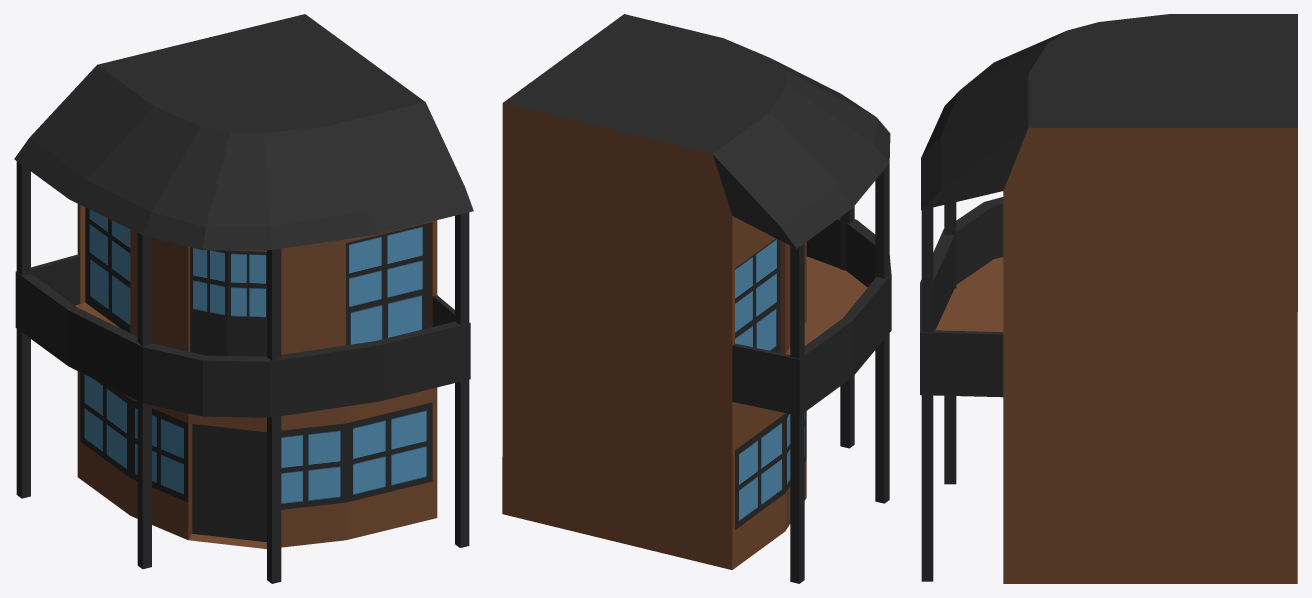
File: JazzCorner1.obj
3 views of the same model, side by side, from view 1: azimuth 30°, elevation 25°; view 2: azimuth 150°, elevation 25°; view 3: azimuth 270°, elevation 25° (orthographic). The views are drawn at different scales.
Parts seen in each view (by area): view 1: JazzCornerH; view 2: JazzCornerH; view 3: JazzCornerH.
Part boxes in pixels (bbox=[...]): JazzCornerH: bbox=[14, 14, 473, 583]; JazzCornerH: bbox=[502, 14, 891, 583]; JazzCornerH: bbox=[920, 14, 1297, 583].
Size of the model in its own units: 6.41 by 8.55 by 6.42.
